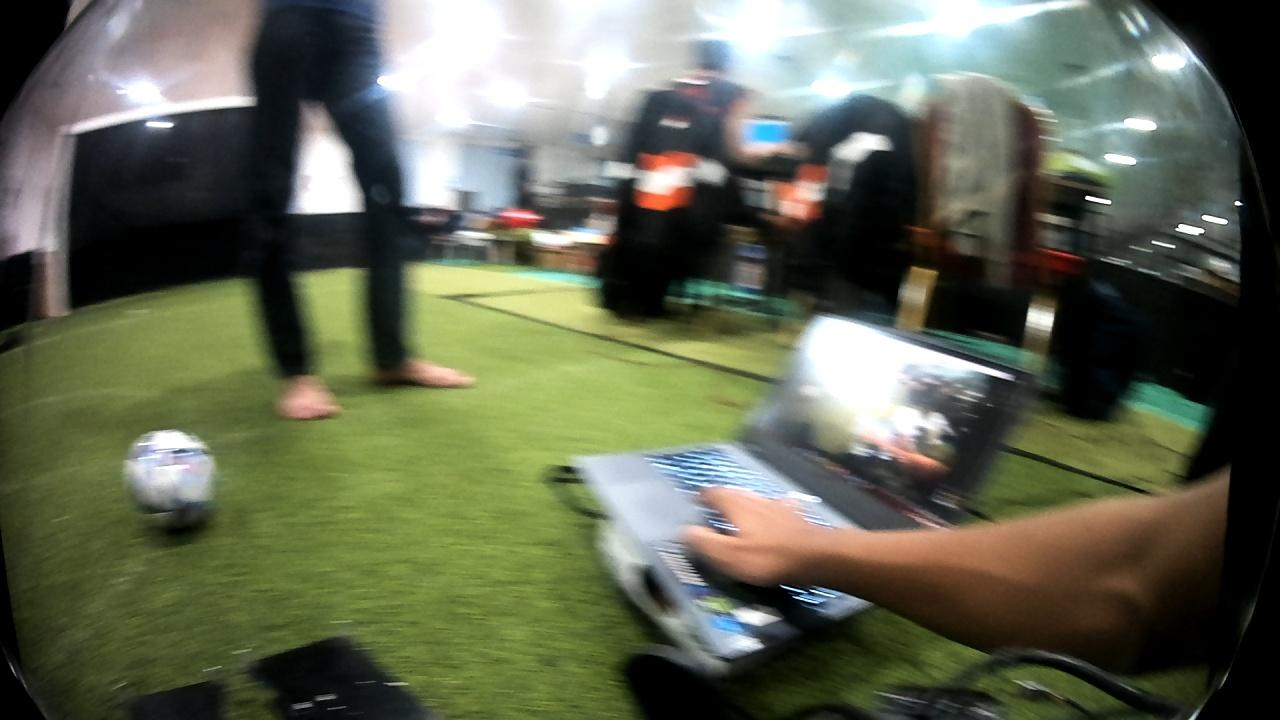ball: (117, 425, 224, 547)
